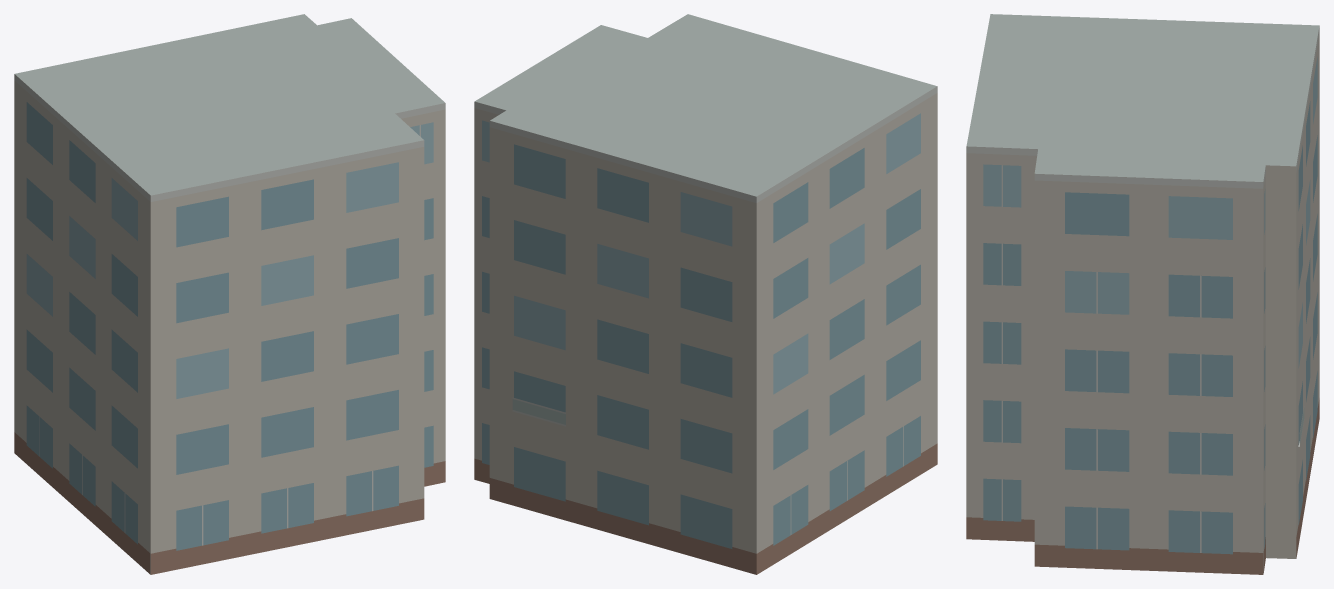
File: survey-upis-32671892.glb
3 views of the same model, side by side, from view 1: azimuth 30°, elevation 25°; view 2: azimuth 150°, elevation 25°; view 3: azimuth 270°, elevation 25° (orthographic). The views are drawn at different scales.
Parts seen in each view (by area): view 1: survey-upis-32671892.tmp; view 2: survey-upis-32671892.tmp; view 3: survey-upis-32671892.tmp.
Boxes of the visible parts, <box> form: survey-upis-32671892.tmp: <box>14,14,445,574</box>; survey-upis-32671892.tmp: <box>474,14,937,574</box>; survey-upis-32671892.tmp: <box>966,14,1319,574</box>.
Bounding box in the file's own units: 13.04 × 14.2 × 11.58.
